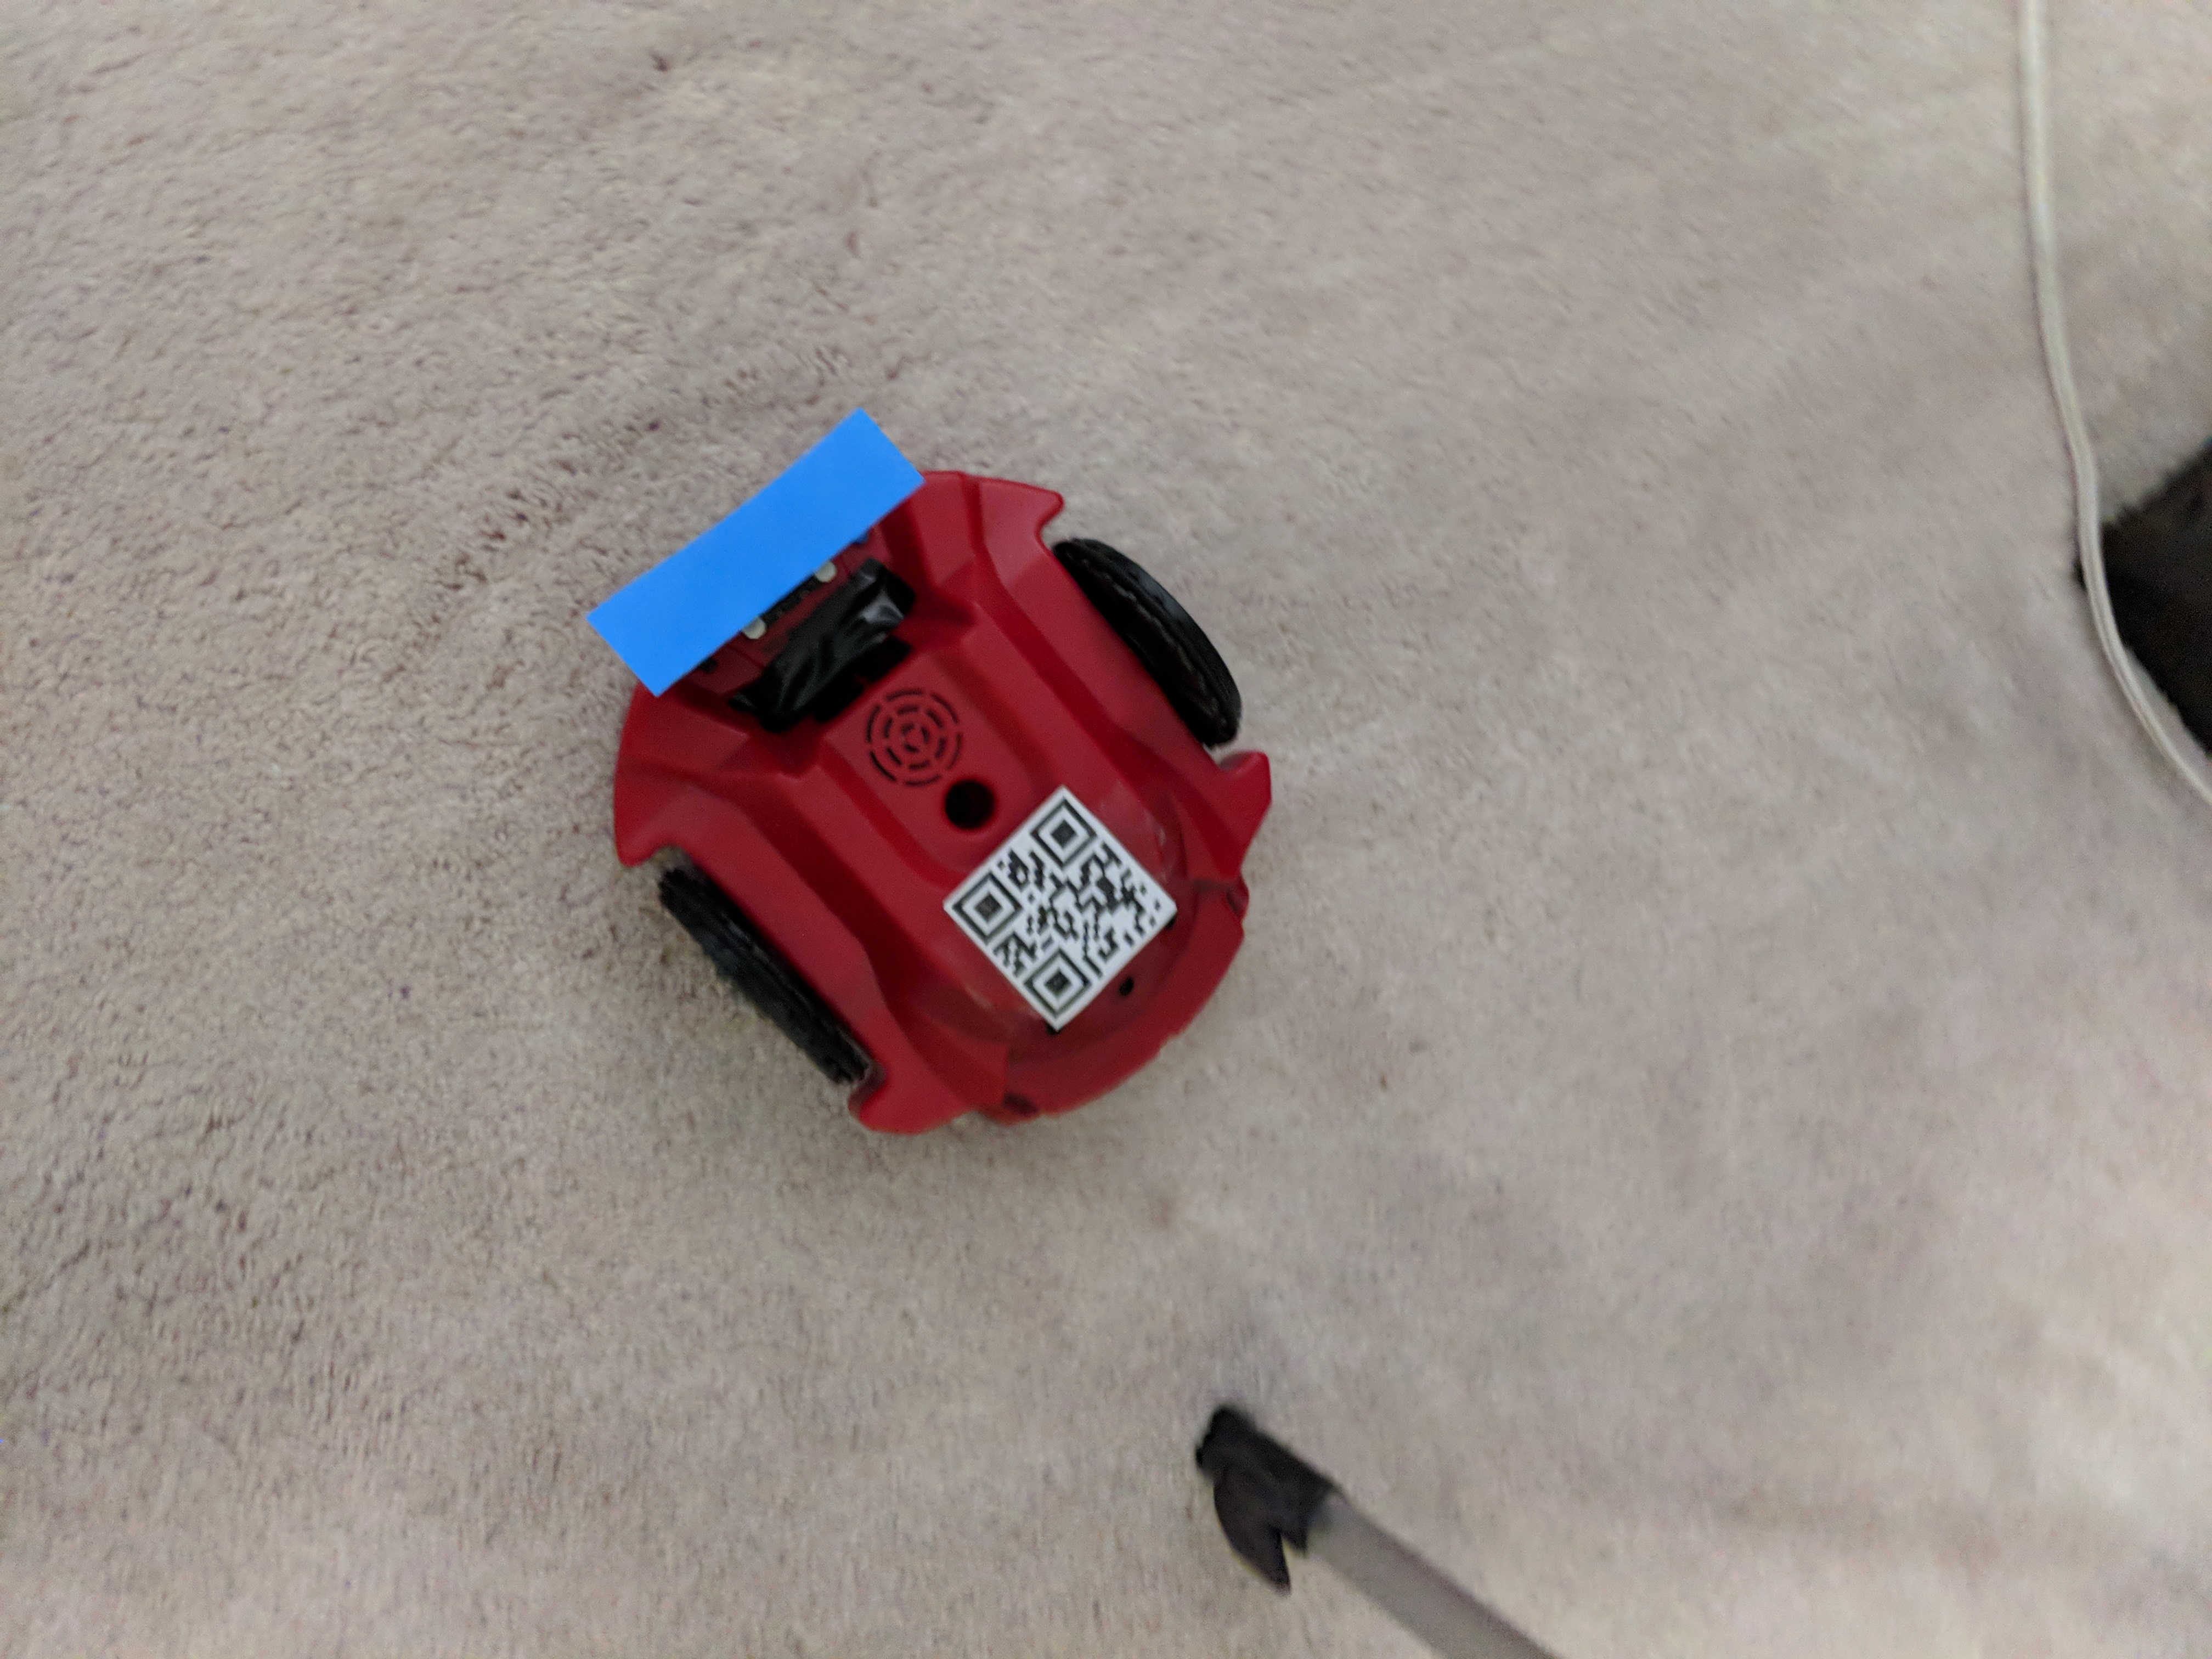chassis: (570, 390, 1285, 1173)
qr: (941, 779, 1181, 1026)
